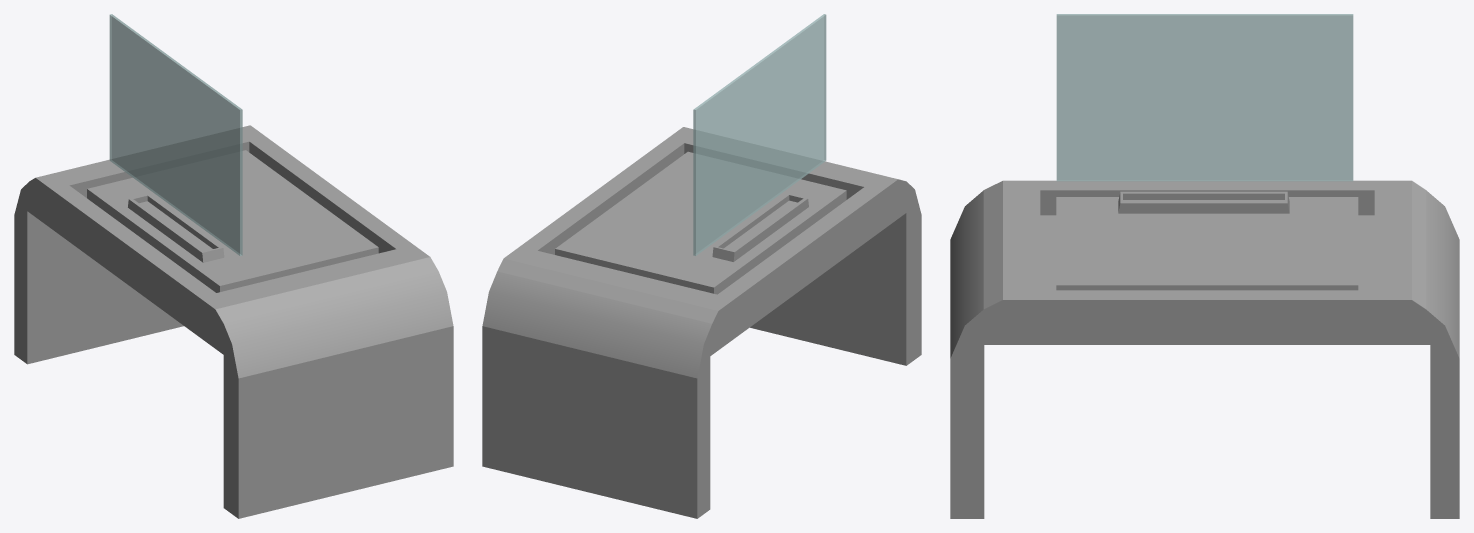
Rendered from Table.fbx.
The picture shows the model from 3 angles, left to right: view 1: azimuth 30°, elevation 25°; view 2: azimuth 150°, elevation 25°; view 3: azimuth 270°, elevation 25°; orthographic projection. The views are drawn at different scales.
Parts seen in each view (by area): view 1: pCube1, pCube3, pCube2; view 2: pCube1, pCube3, pCube2; view 3: pCube1, pCube3, pCube2.
Part boxes in pixels (box(x1,y1,x2,y2)): pCube1: box(14, 125, 453, 518); pCube3: box(109, 14, 242, 255); pCube2: box(128, 194, 224, 262); pCube1: box(482, 127, 921, 518); pCube3: box(693, 14, 826, 255); pCube2: box(712, 193, 808, 261); pCube1: box(950, 180, 1459, 518); pCube3: box(1056, 14, 1353, 181); pCube2: box(1118, 191, 1289, 213).
Bounding box in the file's own units: 53.81 × 86.79 × 97.17.
